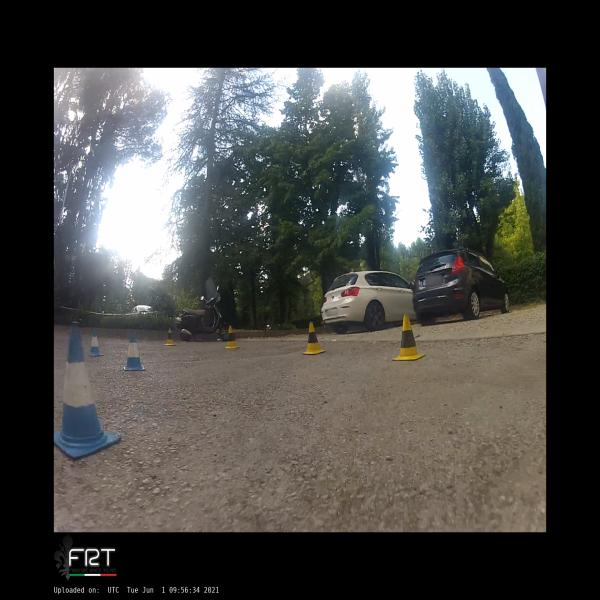blue_cone: (54, 326, 120, 458), (124, 330, 145, 370), (88, 328, 104, 357)
yellow_cone: (392, 314, 426, 360), (302, 322, 326, 354), (224, 325, 240, 349), (164, 327, 177, 346)
